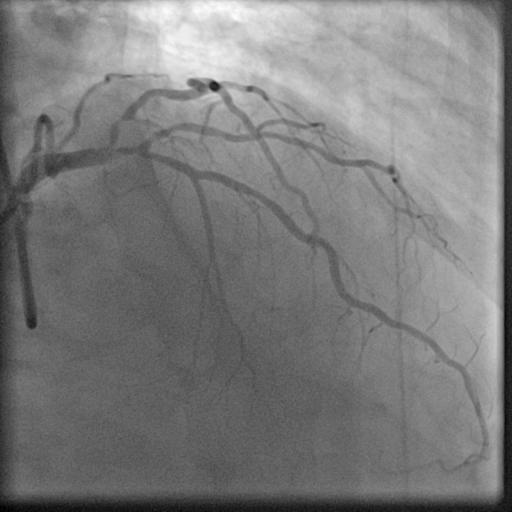Stenosis: (109, 109, 129, 130)
